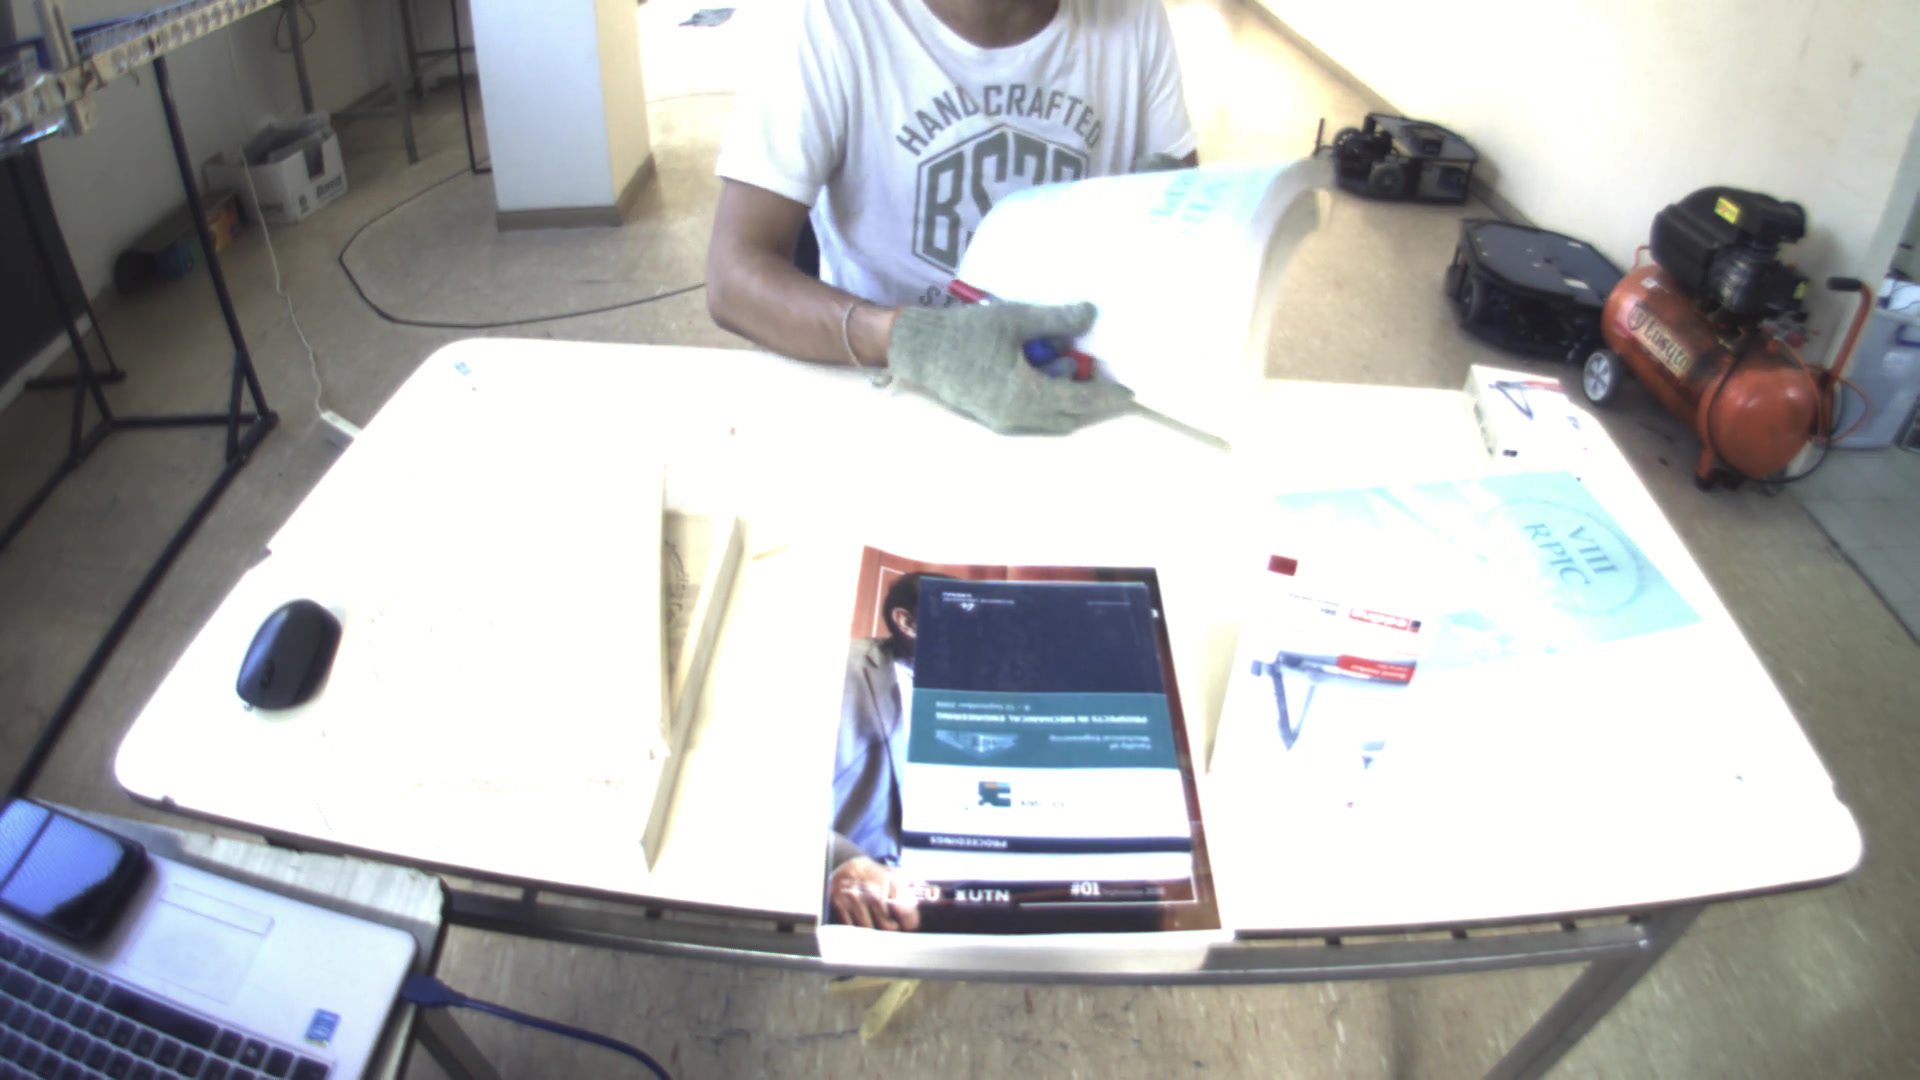hand: (874, 276, 1164, 444)
